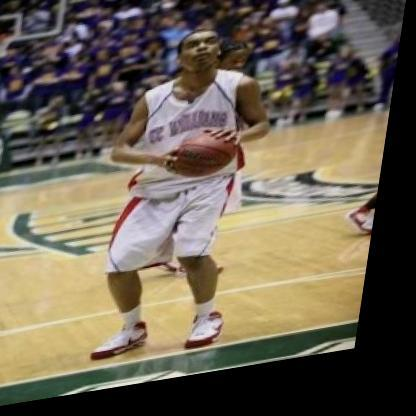basketball: (171, 130, 250, 190)
